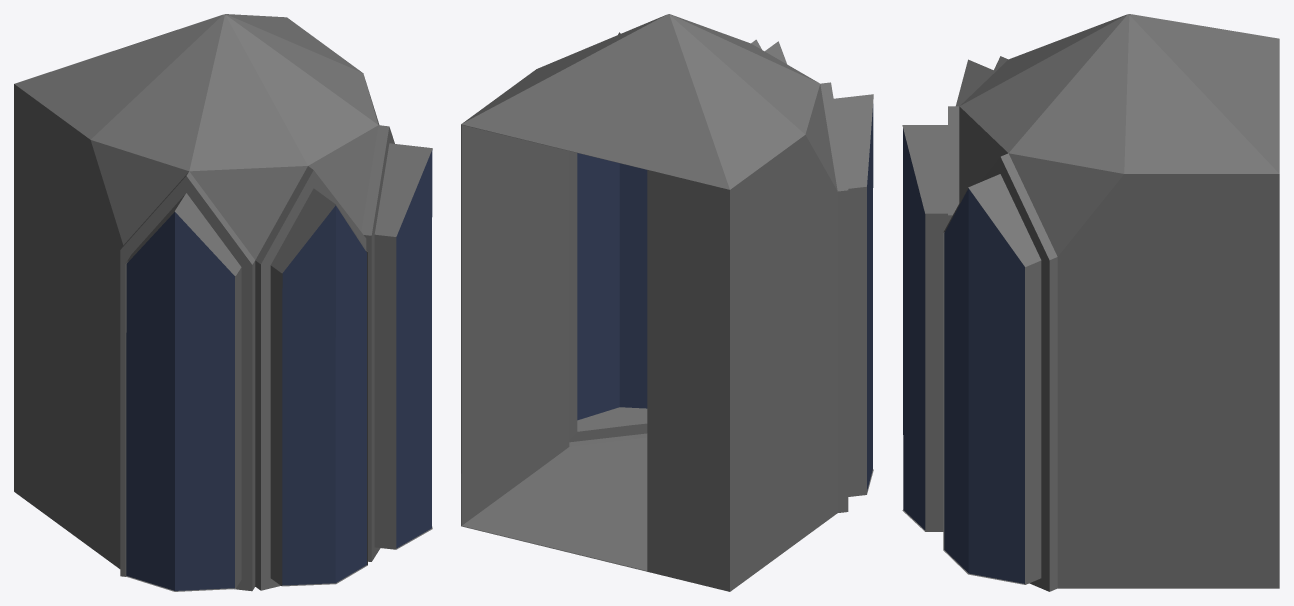
The model's file is Room.fbx.
3 renders of one model, left to right at view 1: azimuth 30°, elevation 25°; view 2: azimuth 150°, elevation 25°; view 3: azimuth 270°, elevation 25°, orthographic. The views are drawn at different scales.
Parts seen in each view (by area): view 1: Cube; view 2: Cube; view 3: Cube.
Boxes of the visible parts, left/top/right/bottom form: Cube: left=14, top=14, right=432, bottom=591; Cube: left=461, top=14, right=873, bottom=591; Cube: left=902, top=14, right=1279, bottom=591.
Size of the model in its own units: 1541 by 2442 by 1650.
